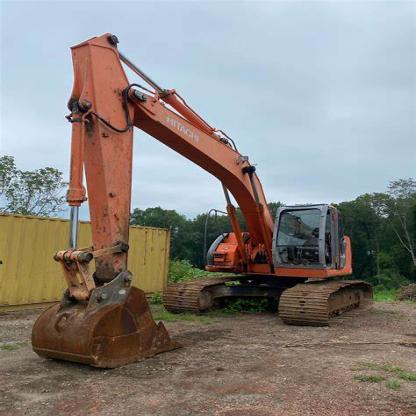excavator: (22, 24, 389, 371)
